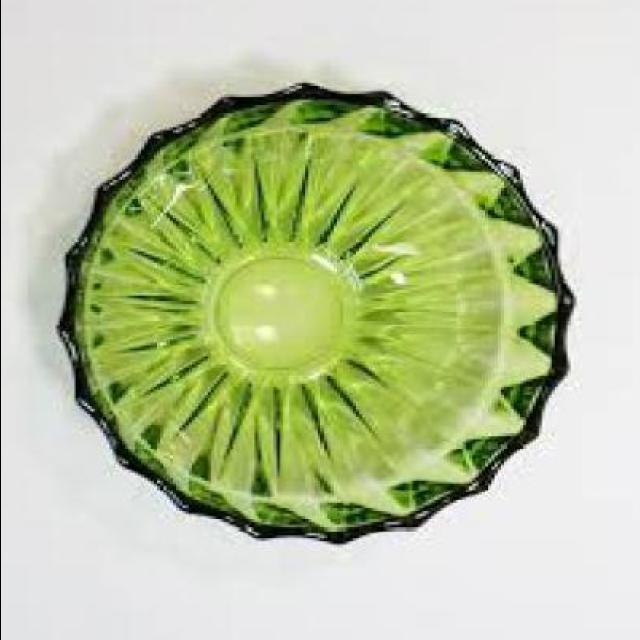kaca: (58, 80, 578, 542)
